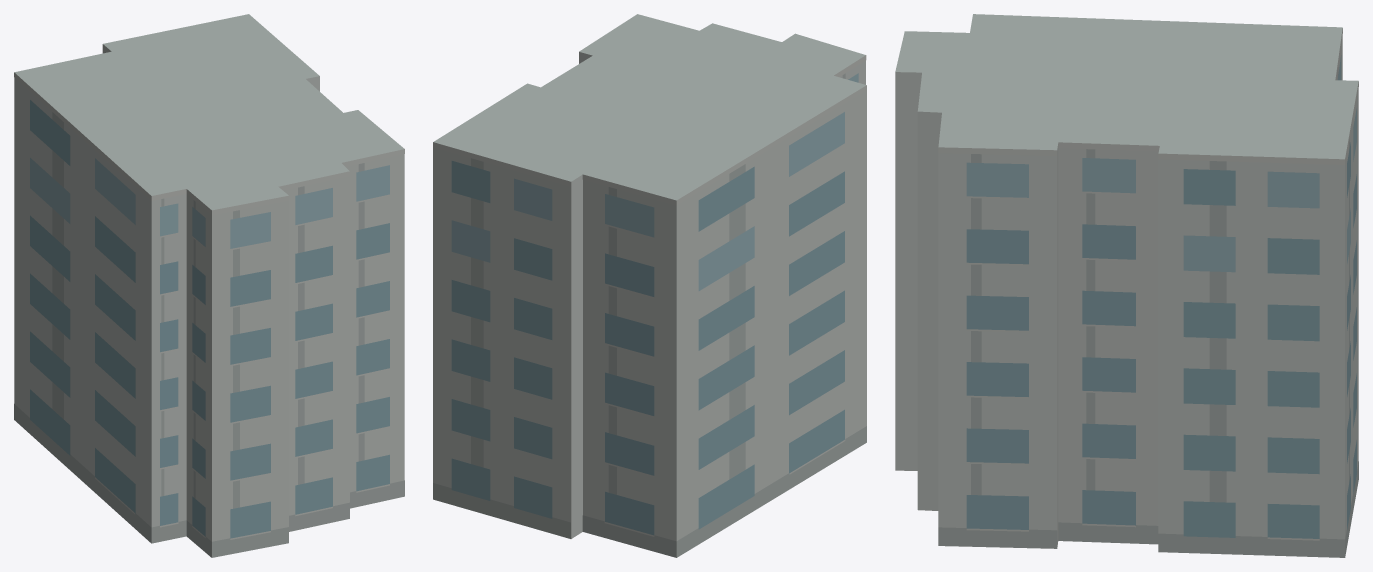
The model's file is survey-upis-32809656.glb.
3 renders of one model, left to right at view 1: azimuth 30°, elevation 25°; view 2: azimuth 150°, elevation 25°; view 3: azimuth 270°, elevation 25°, orthographic. The views are drawn at different scales.
Parts seen in each view (by area): view 1: survey-upis-32809656.tmp; view 2: survey-upis-32809656.tmp; view 3: survey-upis-32809656.tmp.
Part boxes in pixels (box(x1,y1,x2,y2)): survey-upis-32809656.tmp: box(14, 14, 404, 557); survey-upis-32809656.tmp: box(433, 14, 866, 557); survey-upis-32809656.tmp: box(895, 14, 1358, 557).
Size of the model in its own units: 13.07 by 16.7 by 17.61.
